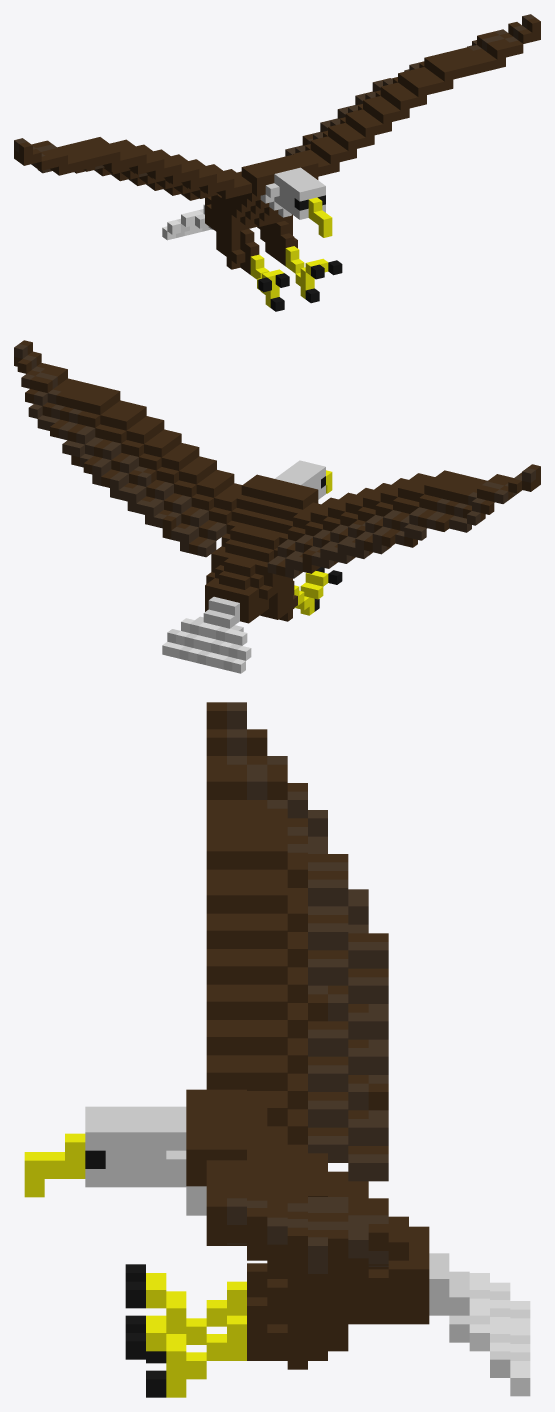
File: eagle.vox.obj
3 renders of one model, top to bottom at view 1: azimuth 30°, elevation 25°; view 2: azimuth 150°, elevation 25°; view 3: azimuth 270°, elevation 25°, orthographic. The views are drawn at different scales.
Size of the model in its own units: 5.9 by 2.3 by 2.5.
Materials: 1 (1 with a texture image).
